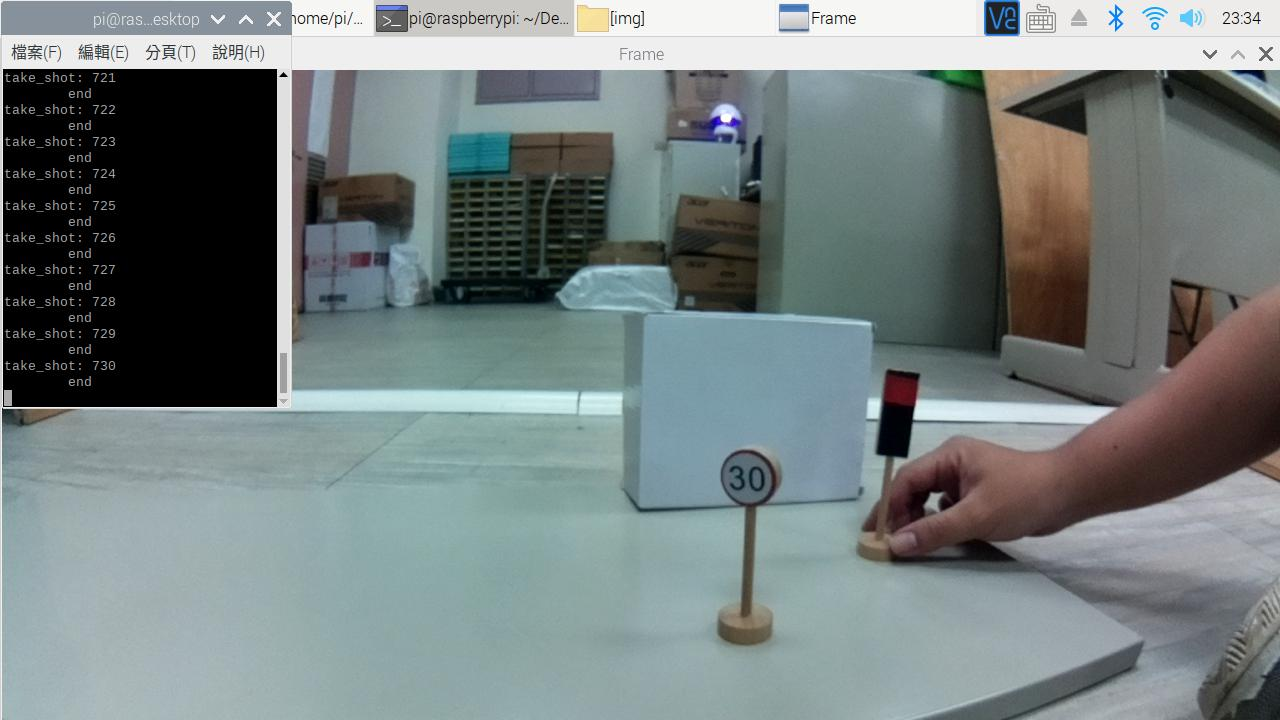Red: (881, 366, 920, 461)
Speed30: (712, 446, 790, 505)
